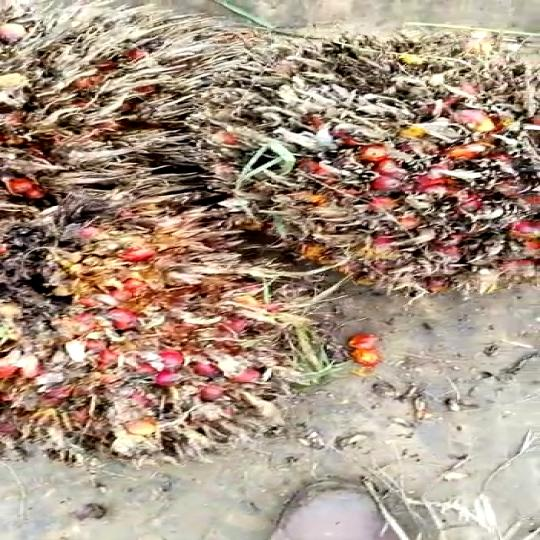terlalu masak: (222, 40, 540, 296), (0, 208, 310, 445)
